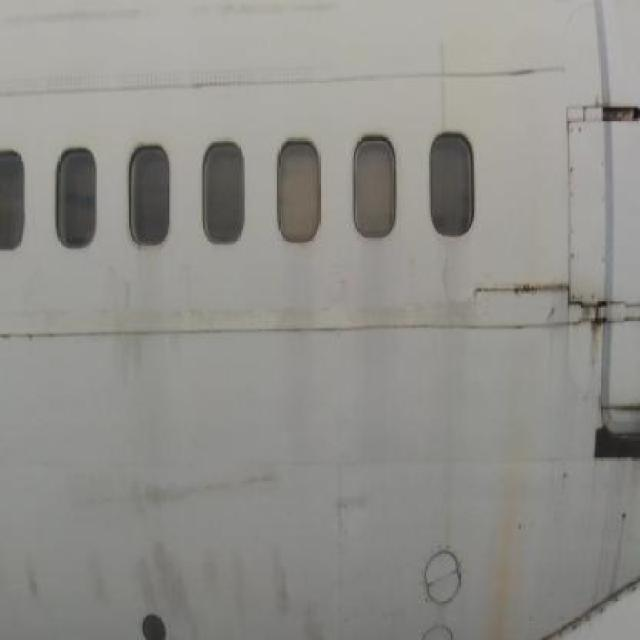Missing-Rivet: (562, 95, 618, 274)
Rust: (488, 418, 532, 640)
Scartch: (462, 264, 626, 345)
